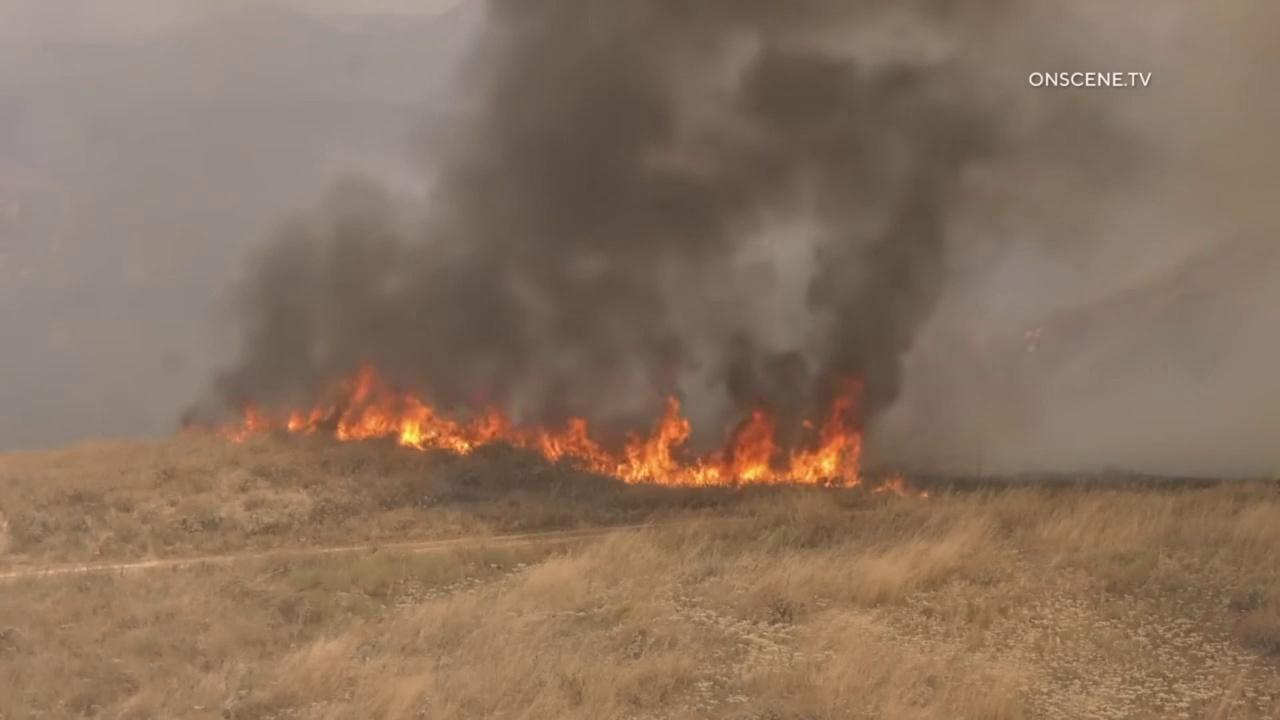fire: (214, 362, 863, 499), (870, 474, 907, 499), (919, 489, 930, 499)
smoke: (0, 0, 1280, 479)
